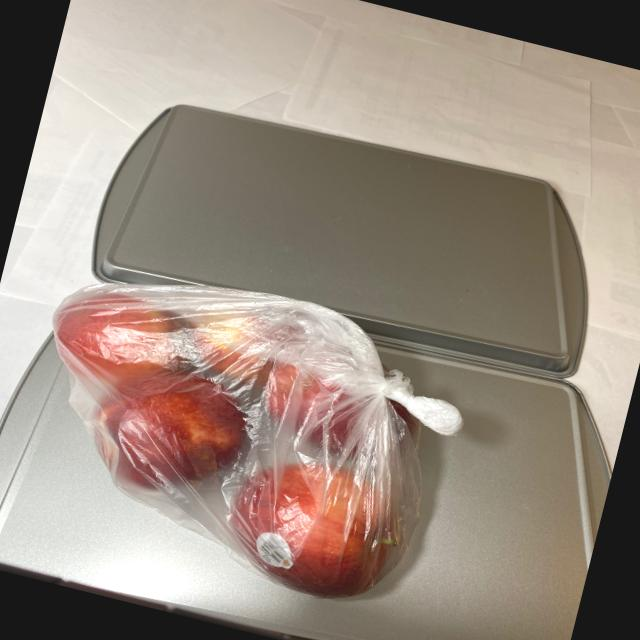apple: (4, 261, 456, 618)
